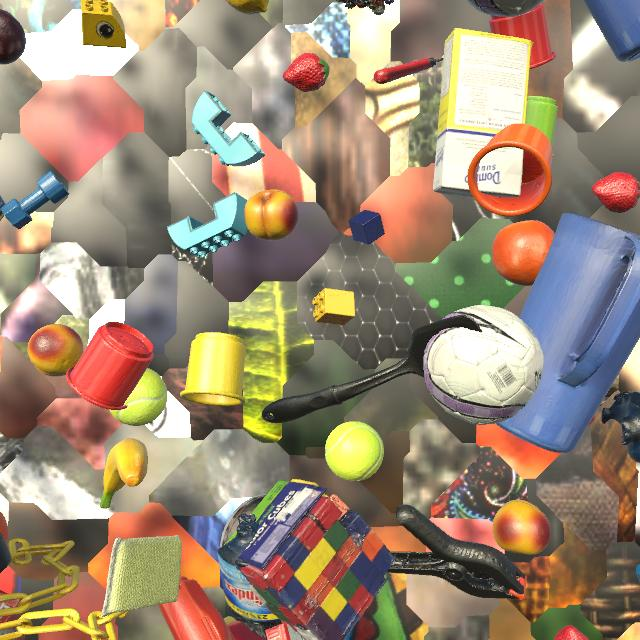ycb_003_cracker_box: (0, 590, 25, 640)
ycb_004_sugar_box: (433, 28, 533, 198)
ycb_009_gelatin_box: (265, 623, 304, 640)
ycb_010_potted_meat_can: (0, 196, 5, 221)
ycb_011_banana: (100, 438, 148, 508)
ycb_012_strawberry: (592, 172, 640, 213), (283, 53, 330, 92), (554, 625, 589, 640)
ycb_014_lemon: (226, 0, 269, 15)
ycb_015_peach: (493, 500, 551, 555), (28, 324, 84, 377), (245, 190, 299, 241)
ycb_017_orange: (492, 220, 555, 286), (0, 512, 9, 544)
ycb_018_plum: (0, 9, 26, 65)
